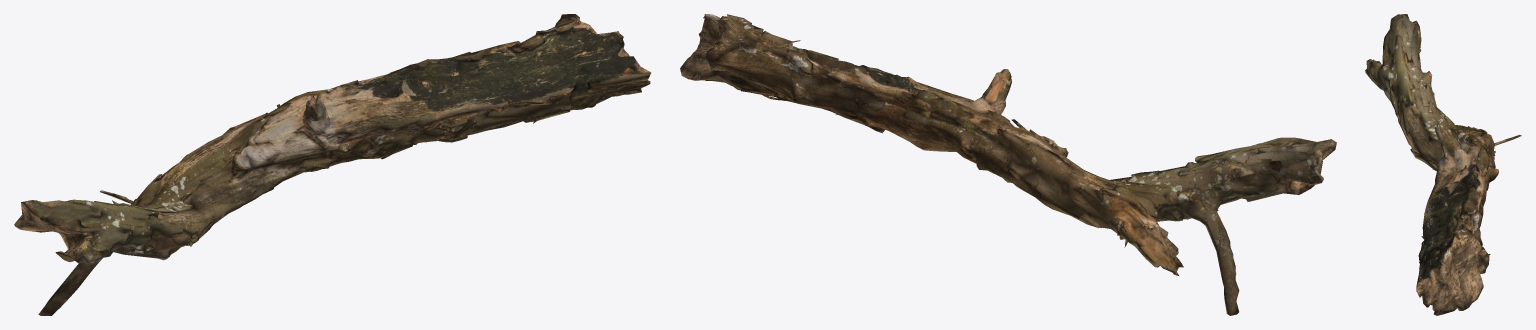
Rendered from dead_tree_trunk_02.glb.
The picture shows the model from 3 angles, left to right: view 1: azimuth 30°, elevation 25°; view 2: azimuth 150°, elevation 25°; view 3: azimuth 270°, elevation 25°; orthographic projection. The views are drawn at different scales.
Parts seen in each view (by area): view 1: dead_tree_trunk_02; view 2: dead_tree_trunk_02; view 3: dead_tree_trunk_02.
Boxes of the visible parts, x1,y1,x2,y2 form: dead_tree_trunk_02: (14,14,651,315); dead_tree_trunk_02: (680,14,1336,315); dead_tree_trunk_02: (1365,14,1521,315).
Size of the model in its own units: 4.05 by 1.05 by 1.05.
1 material, 1 textured.
